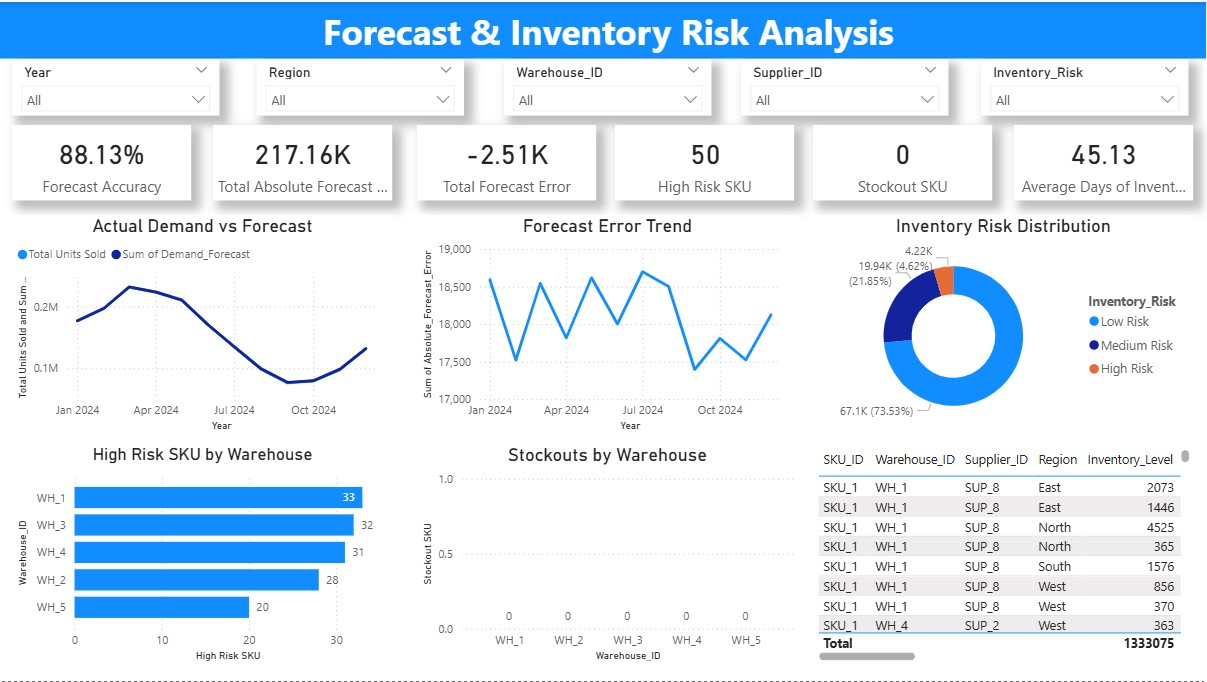

The dashboard page shown, as its layout file describes it:
{"tool":"powerbi","page":{"name":"Forecast & Risk","canvas":[1280,720],"ordinal":3},"visuals":[{"type":"textbox","box":[0,0,1280,60],"z":0},{"type":"slicer","fields":{"Values":["DateTable.Year"]},"box":[12,60,220,60],"z":1000},{"type":"slicer","fields":{"Values":["InventoryData.Region"]},"box":[272,60,220,60],"z":2000},{"type":"slicer","fields":{"Values":["InventoryData.Warehouse_ID"]},"box":[534,60,220,60],"z":3000},{"type":"slicer","fields":{"Values":["InventoryData.Supplier_ID"]},"box":[786,60,220,60],"z":4000},{"type":"slicer","fields":{"Values":["InventoryData.Inventory_Risk"]},"box":[1040,60,220,60],"z":5000},{"type":"card","fields":{"Values":["InventoryData.Forecast Accuracy"]},"box":[12,130,190,80],"z":6000},{"type":"card","fields":{"Values":["InventoryData.Total Forecast Error"]},"box":[442,130,190,80],"z":7000},{"type":"card","fields":{"Values":["InventoryData.Total Absolute Forecast Error"]},"box":[226,130,190,80],"z":8000},{"type":"card","fields":{"Values":["DateTable.High Risk SKU"]},"box":[652,130,190,80],"z":9000},{"type":"card","fields":{"Values":["InventoryData.Stockout SKU"]},"box":[862,130,190,80],"z":10000},{"type":"card","fields":{"Values":["InventoryData.Average Days of Inventory"]},"box":[1076,130,190,80],"z":11000},{"type":"lineChart","title":"Actual Demand vs Forecast","fields":{"Category":["DateTable.Month Year.Variation.Date Hierarchy.Year","DateTable.Month Year.Variation.Date Hierarchy.Quarter","DateTable.Month Year.Variation.Date Hierarchy.Month","DateTable.Month Year.Variation.Date Hierarchy.Day"],"Y":["InventoryData.Total Units Sold","Sum(InventoryData.Demand_Forecast)"]},"box":[12,226,404,234],"z":12000},{"type":"lineChart","title":"Forecast Error Trend","fields":{"Y":["Sum(InventoryData.Absolute_Forecast_Error)"],"Category":["DateTable.Month Year.Variation.Date Hierarchy.Year","DateTable.Month Year.Variation.Date Hierarchy.Quarter","DateTable.Month Year.Variation.Date Hierarchy.Month","DateTable.Month Year.Variation.Date Hierarchy.Day"]},"box":[442,226,404,234],"z":13000},{"type":"donutChart","title":"Inventory Risk Distribution","fields":{"Category":["InventoryData.Inventory_Risk"],"Y":["CountNonNull(InventoryData.SKU_ID)"]},"box":[862,226,404,234],"z":14000},{"type":"clusteredBarChart","title":"High Risk SKU by Warehouse","fields":{"Category":["InventoryData.Warehouse_ID"],"Y":["DateTable.High Risk SKU"]},"box":[12,470,404,234],"z":15000},{"type":"columnChart","title":"Stockouts by Warehouse","fields":{"Category":["InventoryData.Warehouse_ID"],"Y":["InventoryData.Stockout SKU"]},"box":[442,470,404,234],"z":16000},{"type":"tableEx","fields":{"Values":["InventoryData.SKU_ID","InventoryData.Warehouse_ID","InventoryData.Supplier_ID","InventoryData.Region","Sum(InventoryData.Inventory_Level)","Sum(InventoryData.Reorder_Point)","Sum(InventoryData.Days_of_Inventory)","InventoryData.Inventory_Status","InventoryData.Inventory_Risk","Sum(InventoryData.Demand_Forecast)","Sum(InventoryData.Forecast_Error)","Sum(InventoryData.Absolute_Forecast_Error)"]},"box":[862,470,404,234],"z":17000}]}

Visuals, with their boxes in screenshot pixels (x1, y1, x2, y2), scaled from the page's 1280x720 canvas onto the 1207x682 screenshot:
textbox: 0/0/1206/57
slicer - DateTable.Year: 11/57/219/114
slicer - InventoryData.Region: 256/57/464/114
slicer - InventoryData.Warehouse_ID: 504/57/711/114
slicer - InventoryData.Supplier_ID: 741/57/949/114
slicer - InventoryData.Inventory_Risk: 981/57/1188/114
card - InventoryData.Forecast Accuracy: 11/123/190/199
card - InventoryData.Total Forecast Error: 417/123/596/199
card - InventoryData.Total Absolute Forecast Error: 213/123/392/199
card - DateTable.High Risk SKU: 615/123/794/199
card - InventoryData.Stockout SKU: 813/123/992/199
card - InventoryData.Average Days of Inventory: 1015/123/1194/199
"Actual Demand vs Forecast" lineChart: 11/214/392/436
"Forecast Error Trend" lineChart: 417/214/798/436
"Inventory Risk Distribution" donutChart: 813/214/1194/436
"High Risk SKU by Warehouse" clusteredBarChart: 11/445/392/667
"Stockouts by Warehouse" columnChart: 417/445/798/667
tableEx - InventoryData.SKU_ID x InventoryData.Warehouse_ID: 813/445/1194/667
